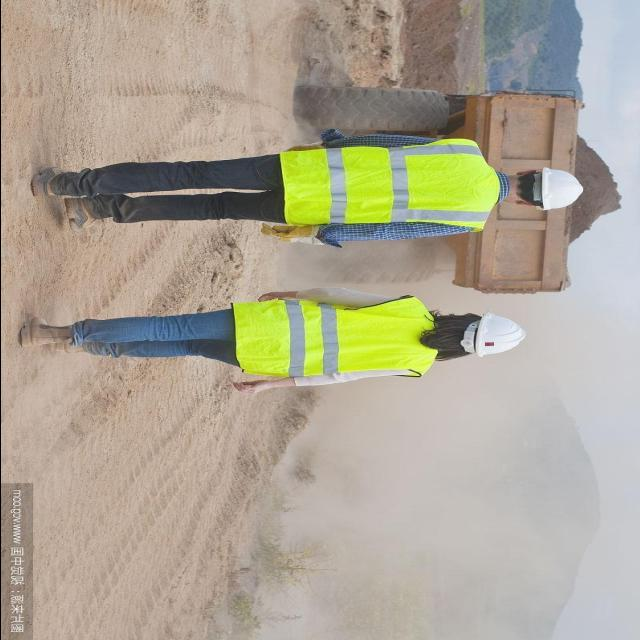jacket: (269, 133, 495, 245), (228, 294, 447, 386), (467, 309, 530, 367)
